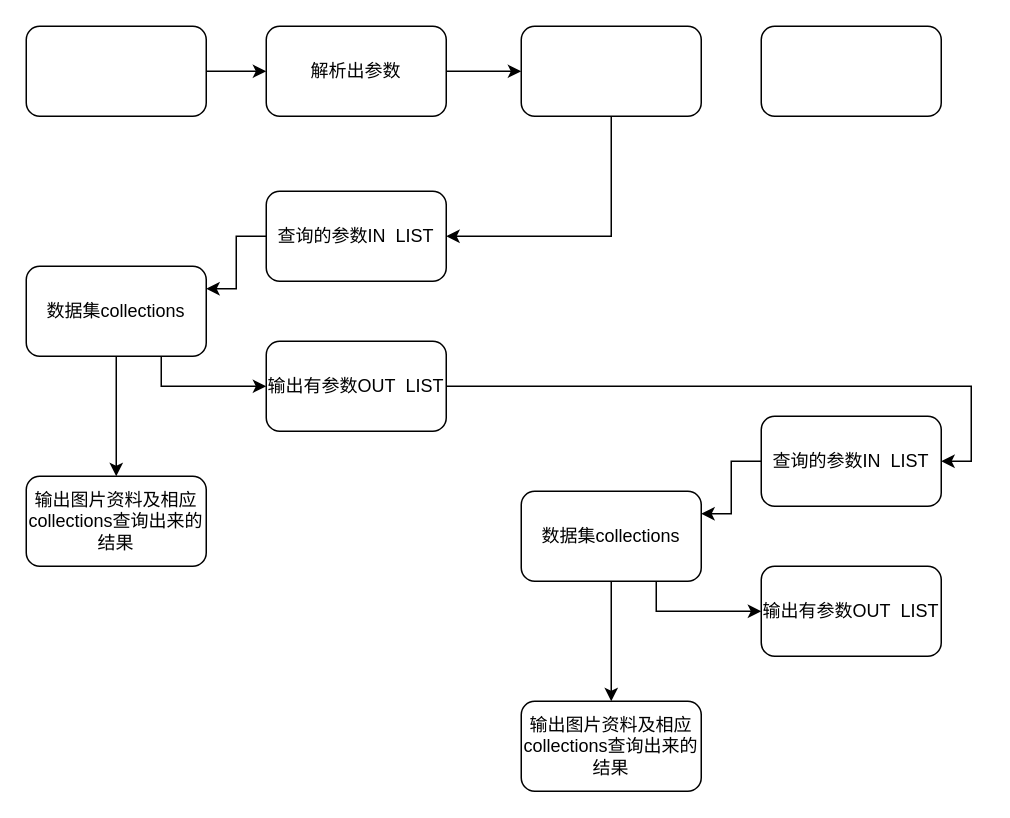
This 1010x818 diagram has some shape labels left out. Here are the shapes that lost their labels. From the top down, the centre of each, then its label:
At pixel 115 70: "URL".
At pixel 610 70: "参数与业务场景的对应关系".
At pixel 850 70: "车辆档案 car".
